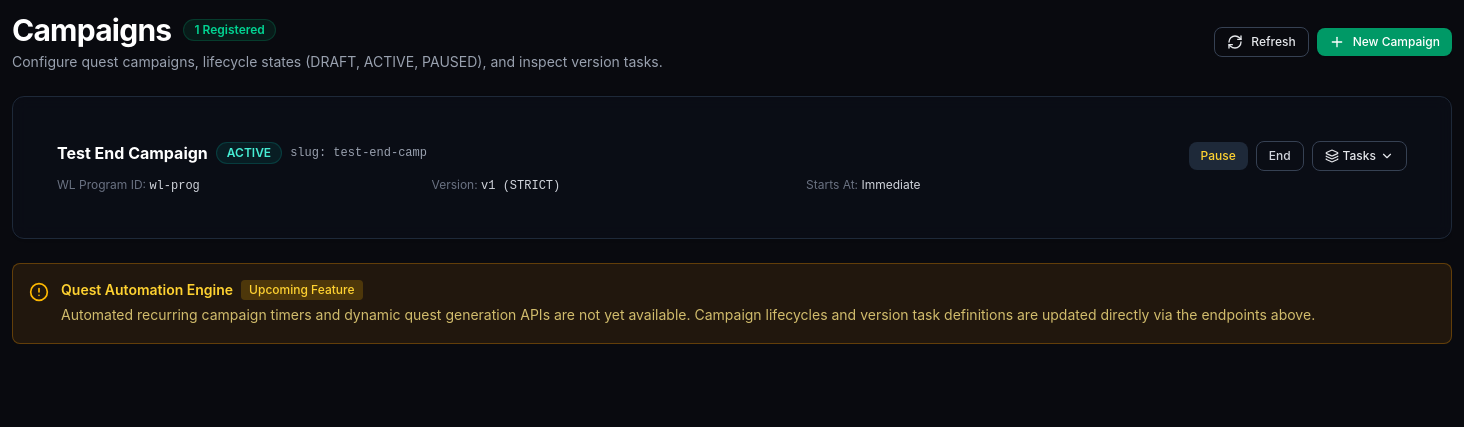
Local Testing - Admin Dashboard Campaigns Menu › 3. Perubahan status › tombol 'End' mengirimkan status 'ARCHIVED' yang didukung backend dan menampilkan notifikasi sukses
Click "End"
Click the button "End" at [1280, 156], box [1256,141,1304,171]
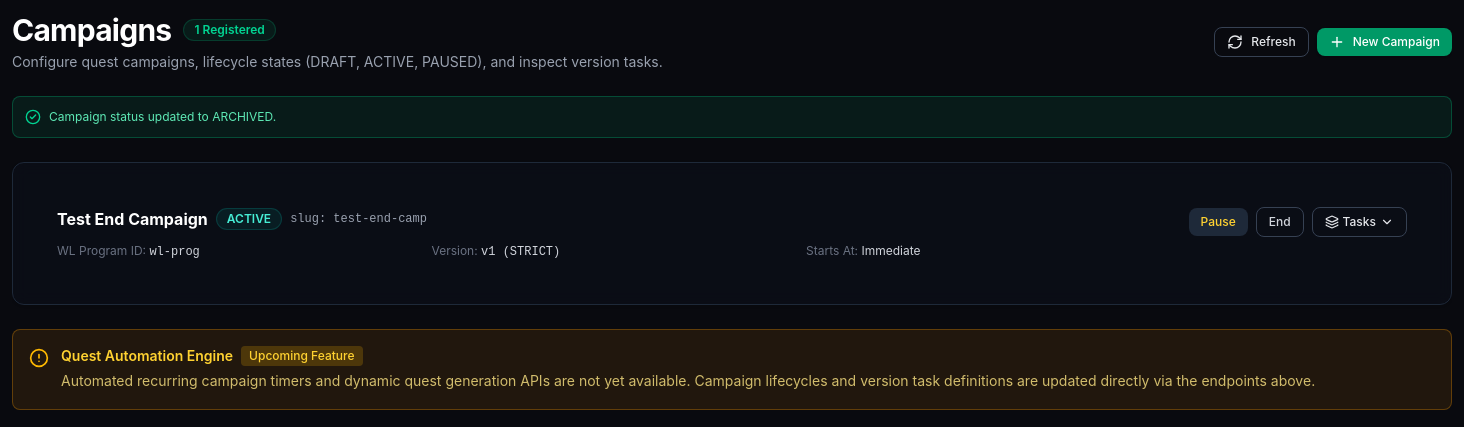
Expected: the text "Campaign status updated to ARCHIVED." is shown, [49,109,276,125]
